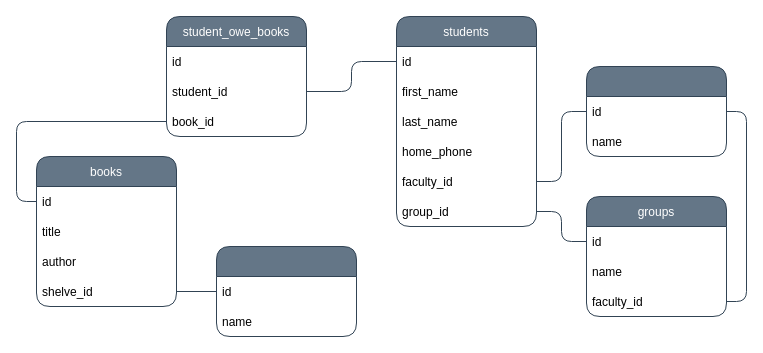
Image size: 763x353. Some labels were removed from this diagram. Here are the shapes that lost their labels. From the top down, the box of each, then its label:
(586, 66, 726, 156): faculty
(216, 246, 356, 336): shelves
